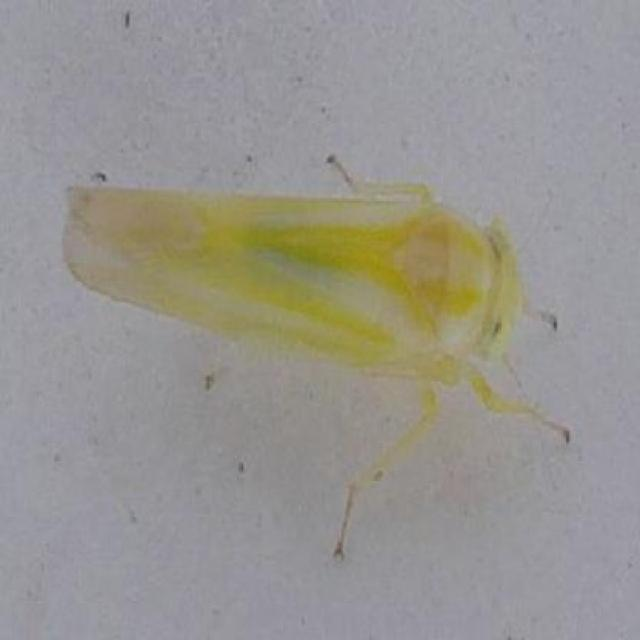green-leafhopper: (67, 146, 558, 420)
